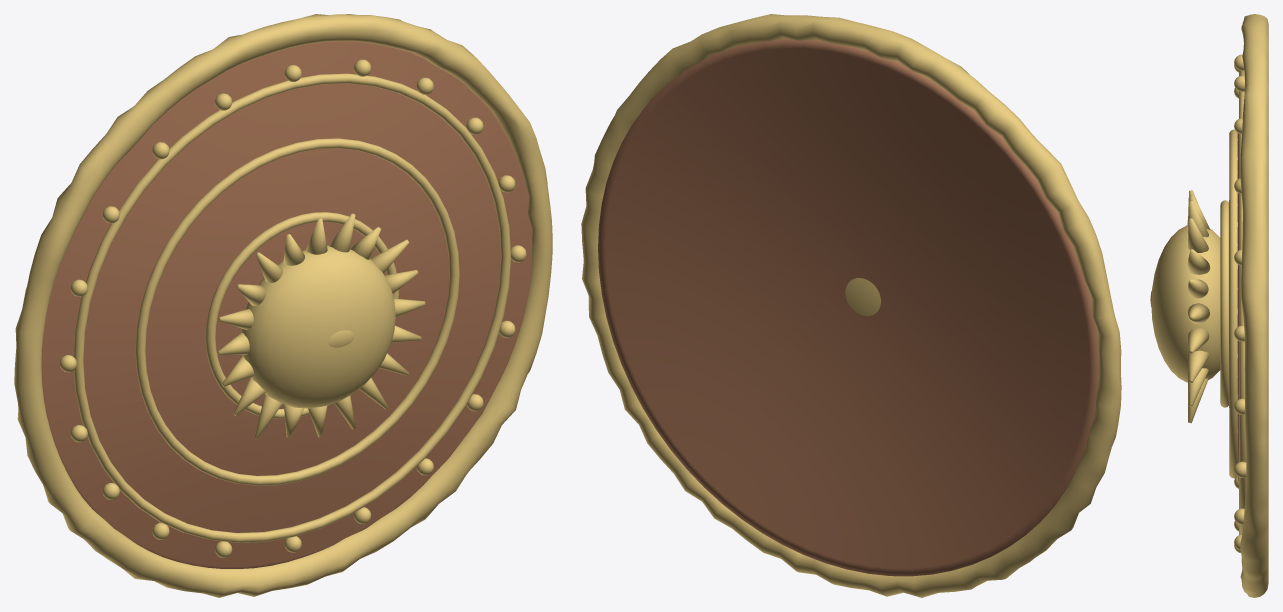
File: NarSimha_God_shield.fbx
3 renders of one model, left to right at view 1: azimuth 30°, elevation 25°; view 2: azimuth 150°, elevation 25°; view 3: azimuth 270°, elevation 25°, orthographic. The views are drawn at different scales.
Parts seen in each view (by area): view 1: Shield_Base, Shield_Rim, Shield_Boss, Shield_Band_2, Shield_Band_1, Shield_Band_0; view 2: Shield_Base, Shield_Rim, Shield_Boss; view 3: Shield_Rim, Shield_Boss, Shield_Band_1, Shield_Band_0, Shield_Band_2, Shield_Base, Shield_ManeRay_4, Shield_ManeRay_19, Shield_ManeRay_3, Shield_ManeRay_0, Shield_ManeRay_18, Shield_ManeRay_1 (+4 smaller).
Boxes of the visible parts, x1,y1,x2,y2 form: Shield_Base: (41, 41, 532, 568); Shield_Rim: (14, 14, 552, 597); Shield_Boss: (241, 245, 395, 408); Shield_Band_2: (73, 73, 510, 542); Shield_Band_1: (135, 138, 459, 485); Shield_Band_0: (205, 212, 398, 418); Shield_Base: (598, 38, 1098, 576); Shield_Rim: (581, 14, 1121, 597); Shield_Boss: (845, 278, 880, 316); Shield_Rim: (1240, 14, 1268, 597); Shield_Boss: (1151, 225, 1220, 382); Shield_Band_1: (1229, 129, 1237, 478); Shield_Band_0: (1220, 200, 1228, 407); Shield_Band_2: (1239, 70, 1246, 534); Shield_Base: (1229, 133, 1238, 482); Shield_ManeRay_4: (1188, 218, 1208, 252); Shield_ManeRay_19: (1187, 350, 1209, 382); Shield_ManeRay_3: (1187, 249, 1210, 274); Shield_ManeRay_0: (1187, 328, 1209, 353); Shield_ManeRay_18: (1188, 368, 1208, 406); Shield_ManeRay_1: (1187, 303, 1209, 323).
Size of the model in its own units: 906 by 912 by 185.
